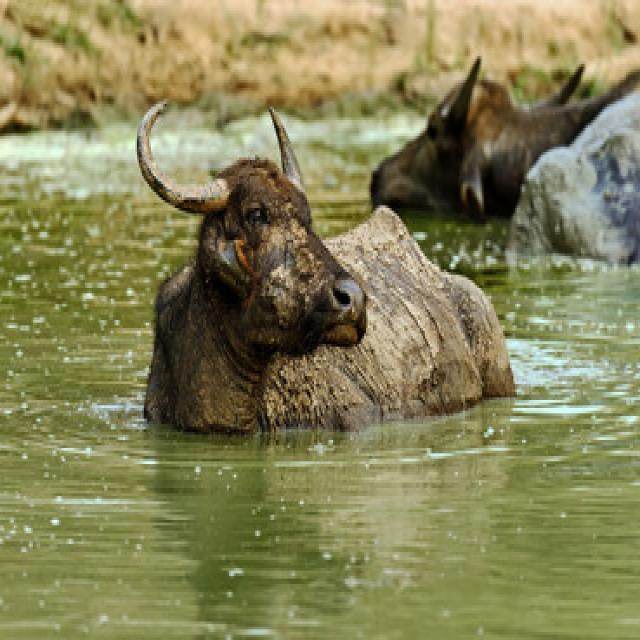Buffalo: (129, 100, 524, 431)
